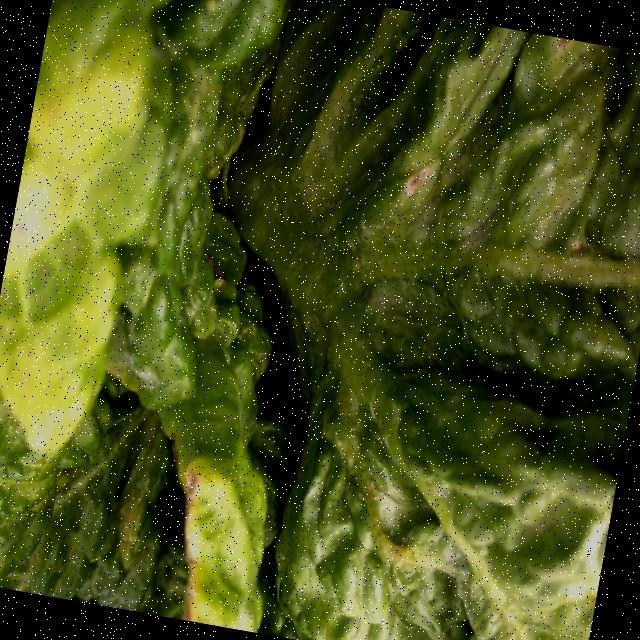Powdery_mildew_on_lettuce: (292, 74, 610, 397)
